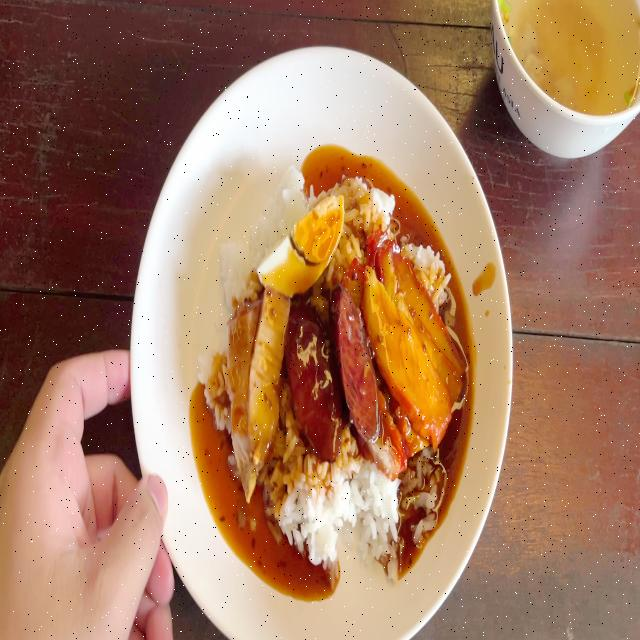boiled_egg: (258, 194, 342, 285)
chainese_sausage: (292, 292, 372, 449)
crispy_pork: (219, 307, 281, 477)
red_pork: (370, 239, 456, 433)
red_pork_and_crispy_pork: (218, 167, 450, 562)
rice: (274, 458, 410, 557), (260, 176, 296, 246), (221, 231, 254, 294)
